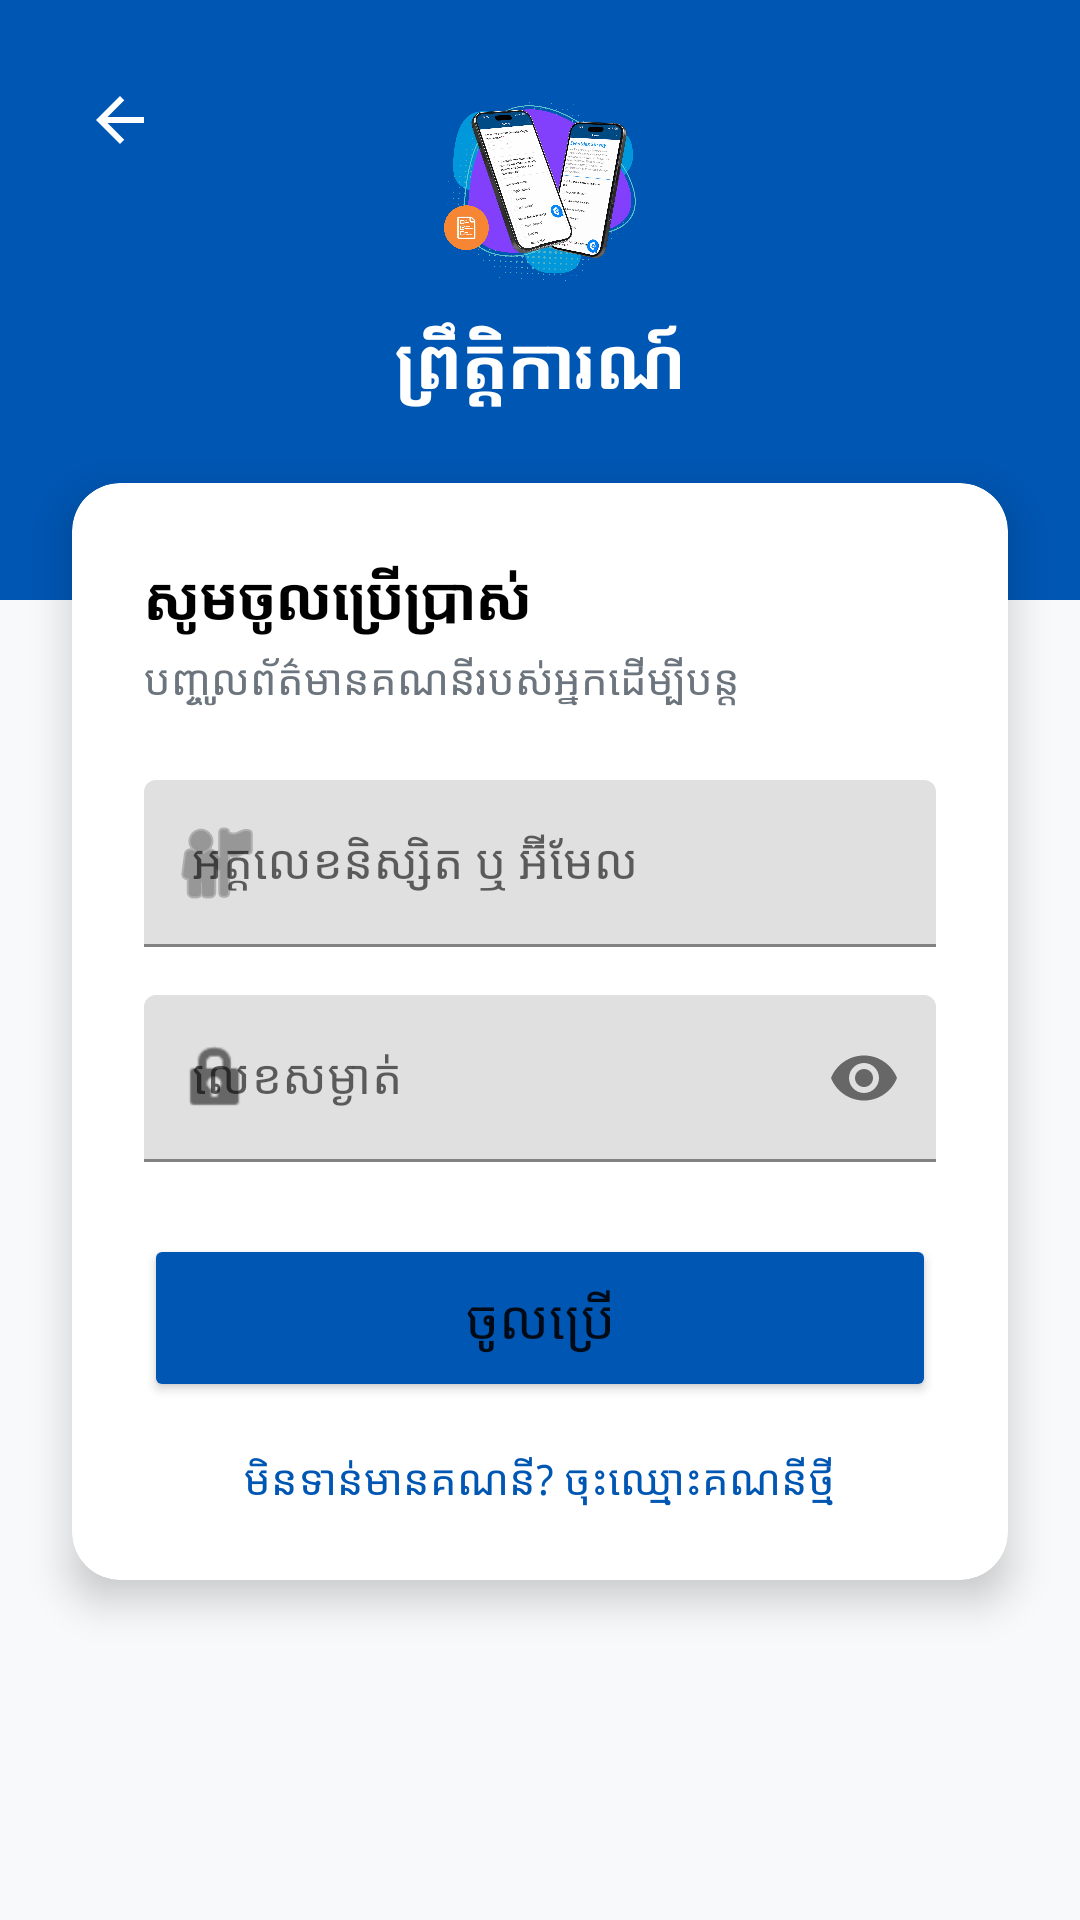

Icons on this 1080px x 1920px Android screen, each with the point to tap as (x=x, y=y):
back straight: (x=120, y=120)
